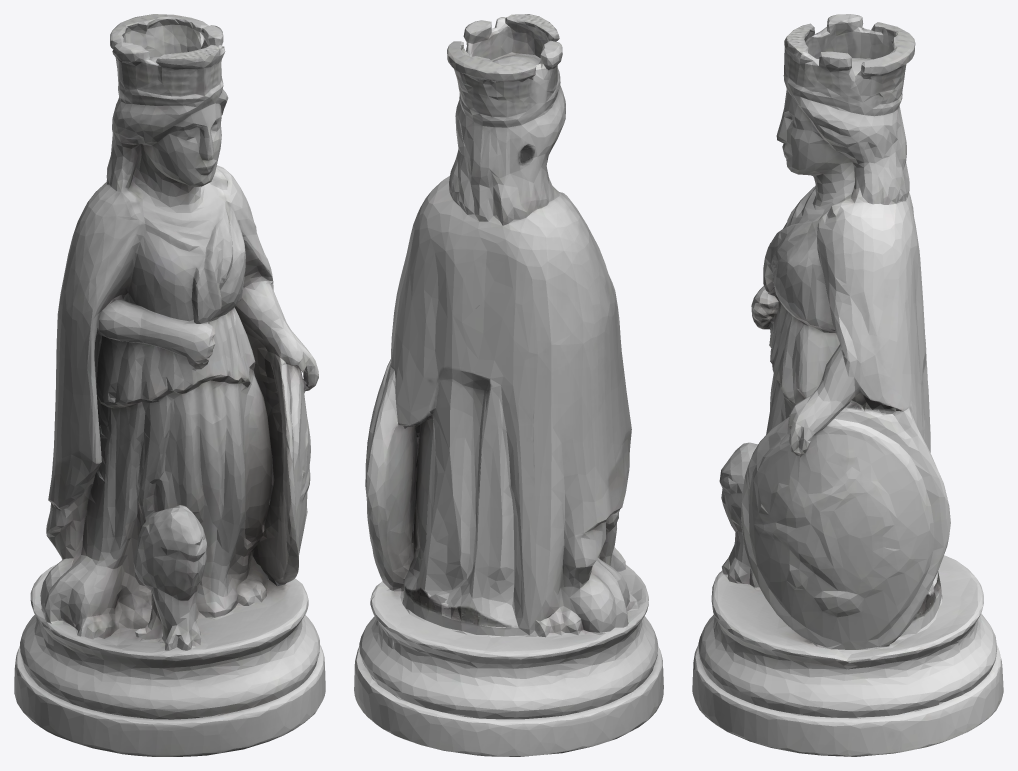
The model's file is dama-realista.glb.
The picture shows the model from 3 angles, left to right: view 1: azimuth 30°, elevation 25°; view 2: azimuth 150°, elevation 25°; view 3: azimuth 270°, elevation 25°; orthographic projection.
Visible parts, largest first — view 1: geometry_0; view 2: geometry_0; view 3: geometry_0.
Boxes of the visible parts, <box> form: geometry_0: <box>14,14,325,756</box>; geometry_0: <box>354,14,663,756</box>; geometry_0: <box>692,14,1003,756</box>.
Bounding box in the file's own units: 0.4283 × 0.9972 × 0.4282.
1 material, 1 textured.
